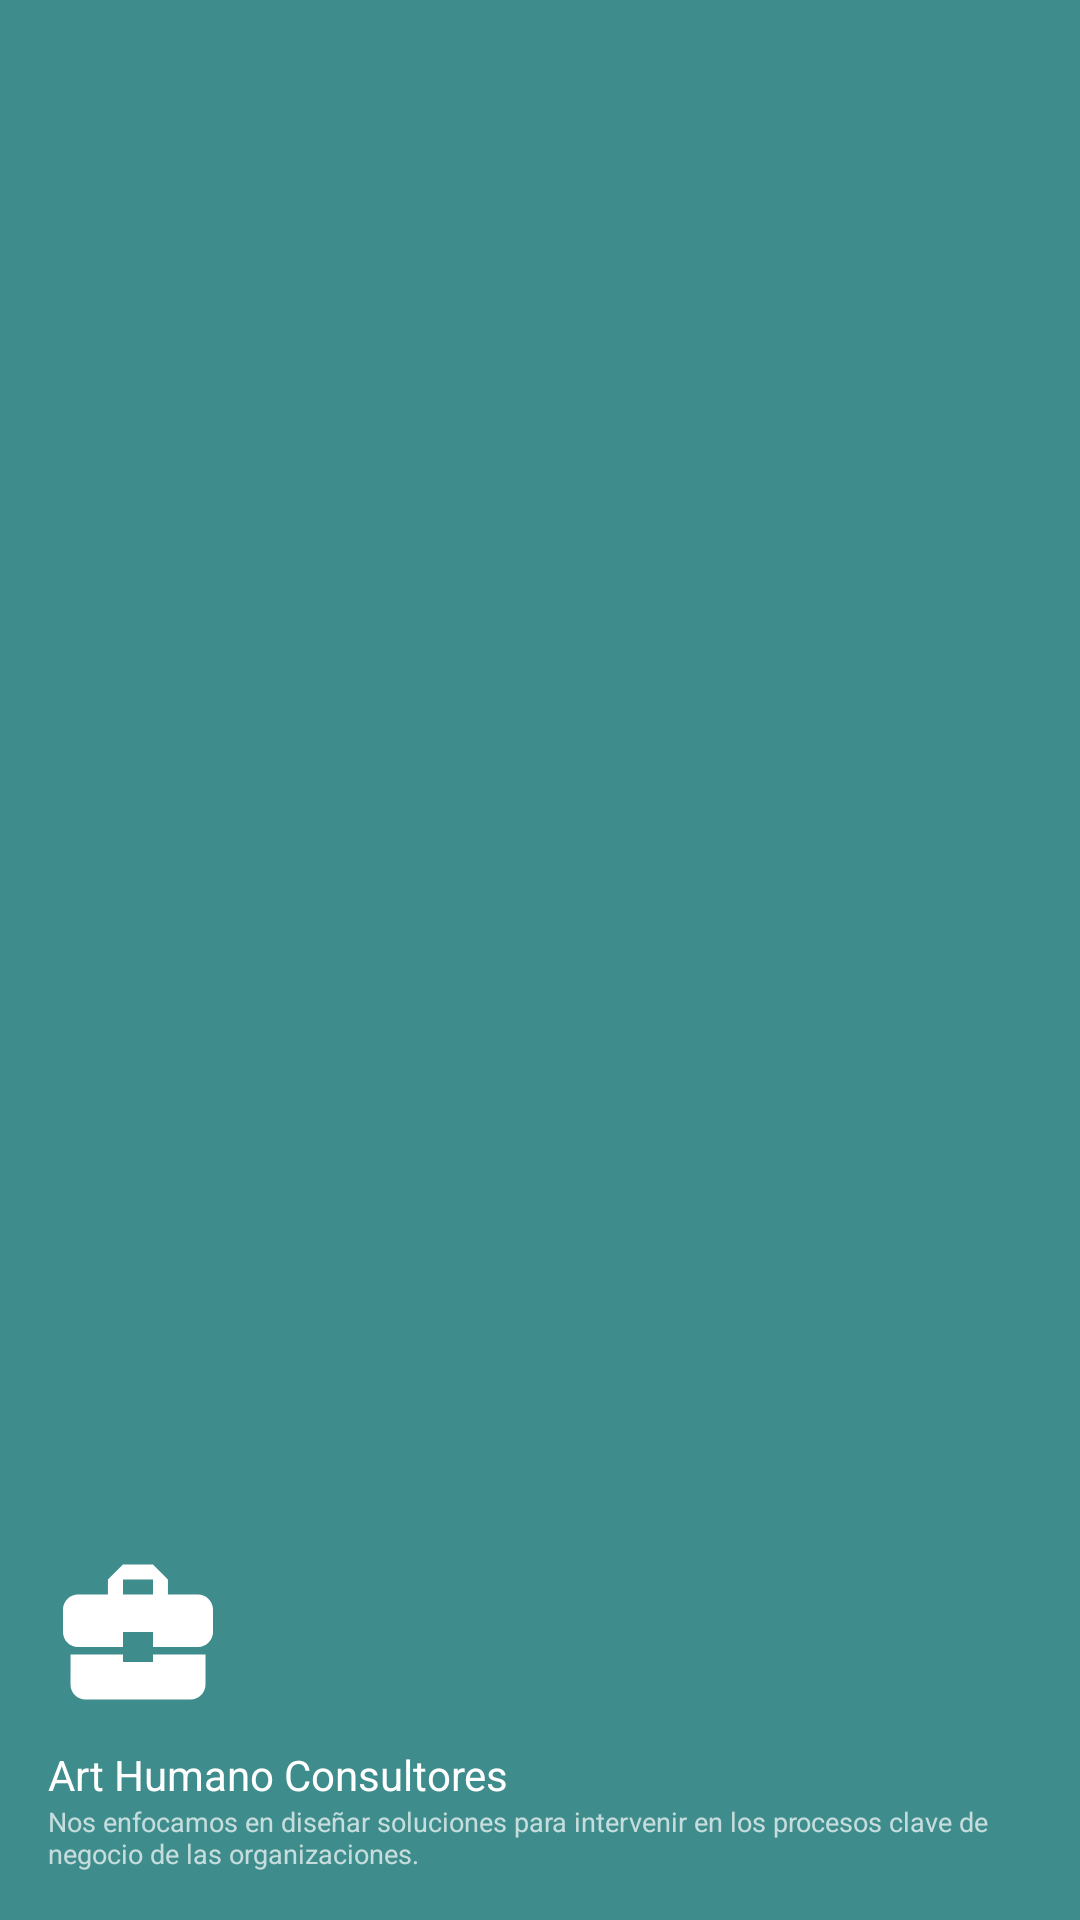

Screen size 1080px×1920px. Icon name, then its center in pixels as (x,y):
consultoria: (138,1632)
